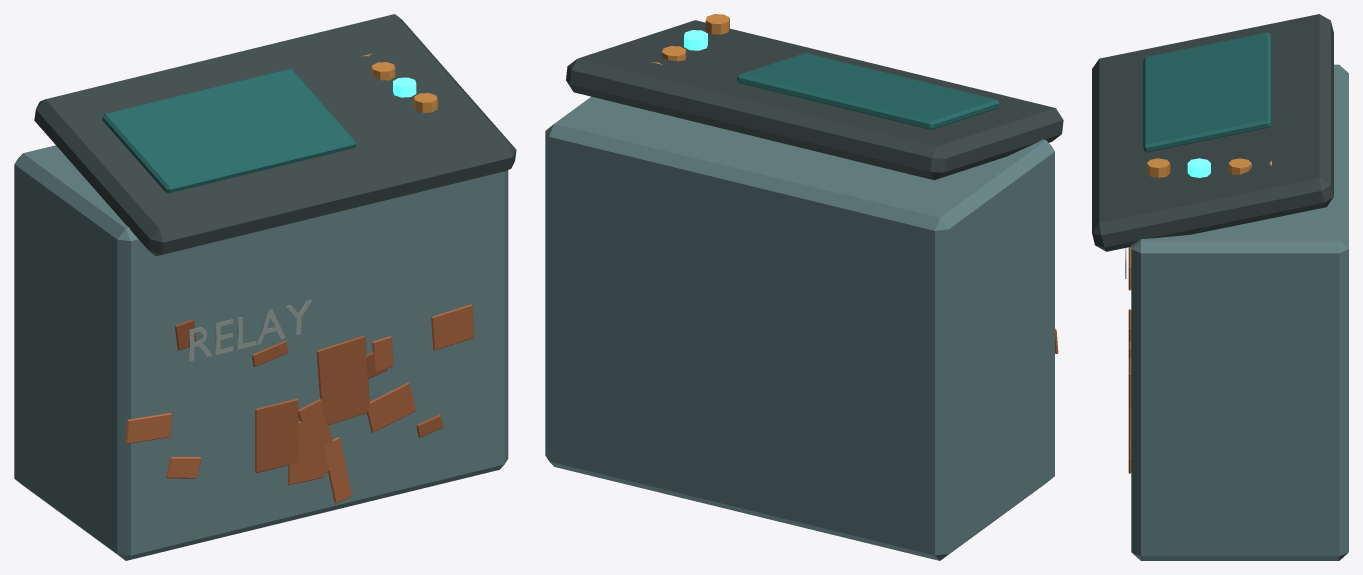
Rendered from Console_Broken.glb.
The picture shows the model from 3 angles, left to right: view 1: azimuth 30°, elevation 25°; view 2: azimuth 150°, elevation 25°; view 3: azimuth 270°, elevation 25°; orthographic projection. The views are drawn at different scales.
Visible parts, largest first — view 1: Console_Broken; view 2: Console_Broken; view 3: Console_Broken.
Boxes of the visible parts, left/top/right/bottom form: Console_Broken: left=14, top=14, right=516, bottom=560; Console_Broken: left=545, top=14, right=1063, bottom=560; Console_Broken: left=1092, top=14, right=1348, bottom=560.
Size of the model in its own units: 1.6 by 1.53 by 0.9446.
